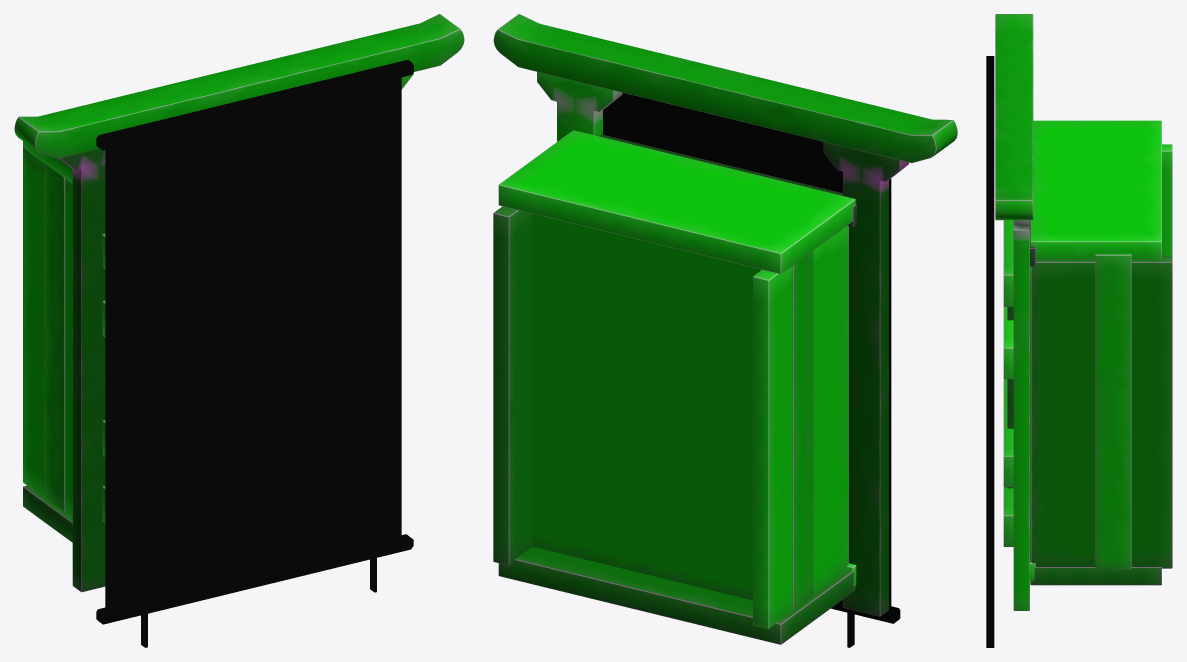
The model's file is window_400x350_04.fbx.
3 views of the same model, side by side, from view 1: azimuth 30°, elevation 25°; view 2: azimuth 150°, elevation 25°; view 3: azimuth 270°, elevation 25° (orthographic). The views are drawn at different scales.
Parts seen in each view (by area): view 1: window_400x350_04; view 2: window_400x350_04; view 3: window_400x350_04.
Part boxes in pixels (box(x1,y1,x2,y2)): window_400x350_04: box(14, 14, 464, 647); window_400x350_04: box(493, 14, 957, 647); window_400x350_04: box(986, 14, 1172, 647).
Bounding box in the file's own units: 2.48 × 2.96 × 1.03.
